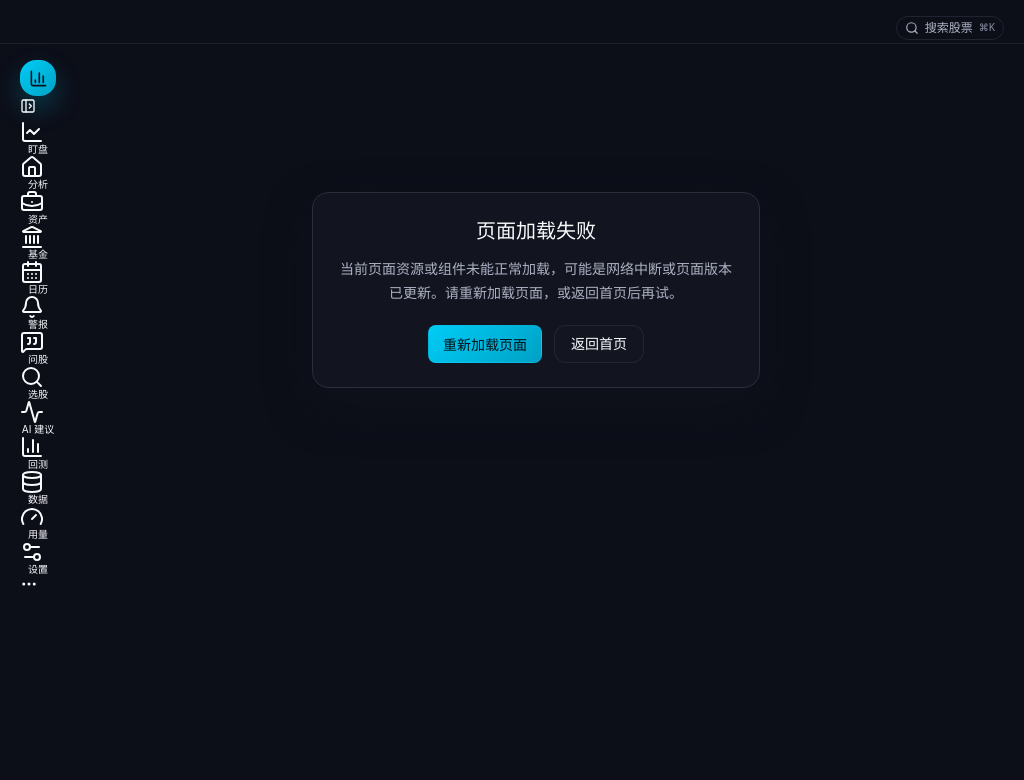
RouteOutletBoundary › catches rejected lazy route imports inside the shell and resets on navigation
This screenshot has width=1024, height=780.
Check: the navigation bar named "主导航" is shown, box [20,120,56,575]
Check: the heading "页面加载失败" is shown, box [476,219,596,243]
Step 1. Click the link "资产" → (20, 190), box [20,190,48,225]
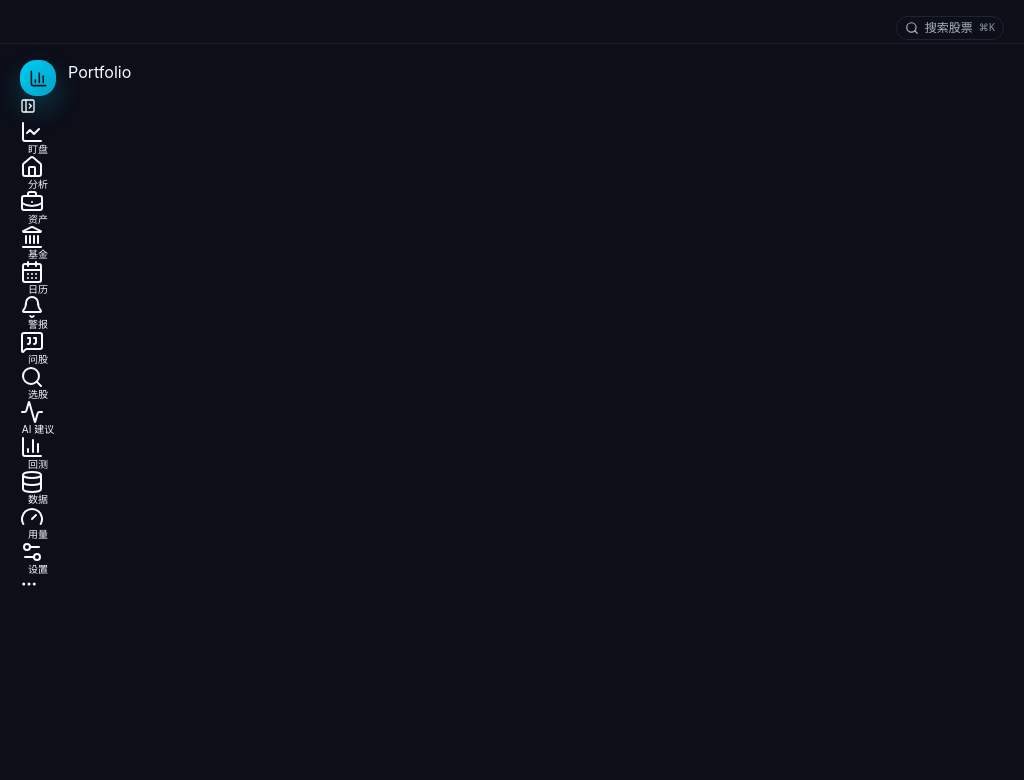
Check: the text "Portfolio" is shown, box [68,62,131,82]
Check: the heading "页面加载失败" is gone
